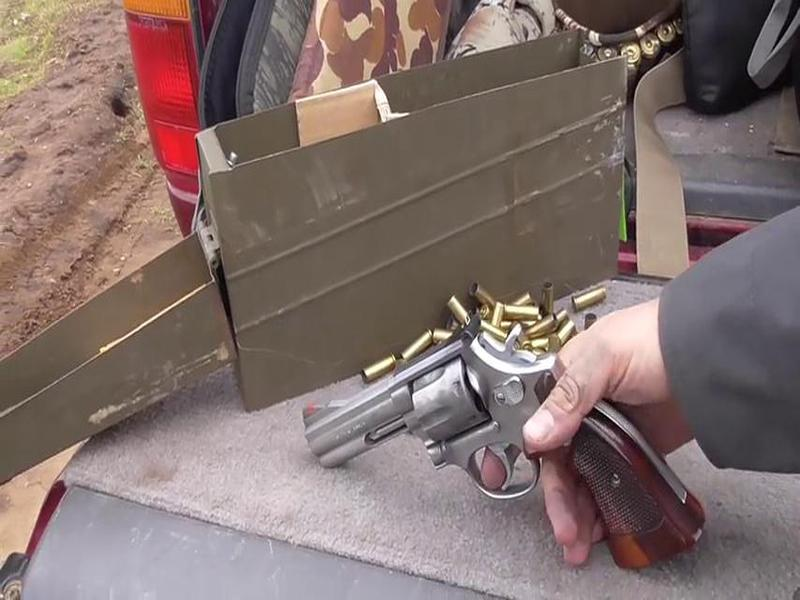Revolver: (286, 307, 610, 551)
